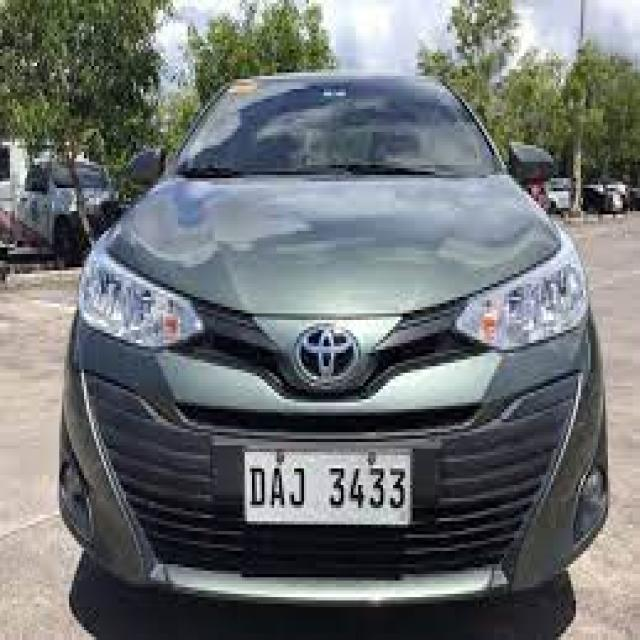number: (242, 449, 410, 525)
